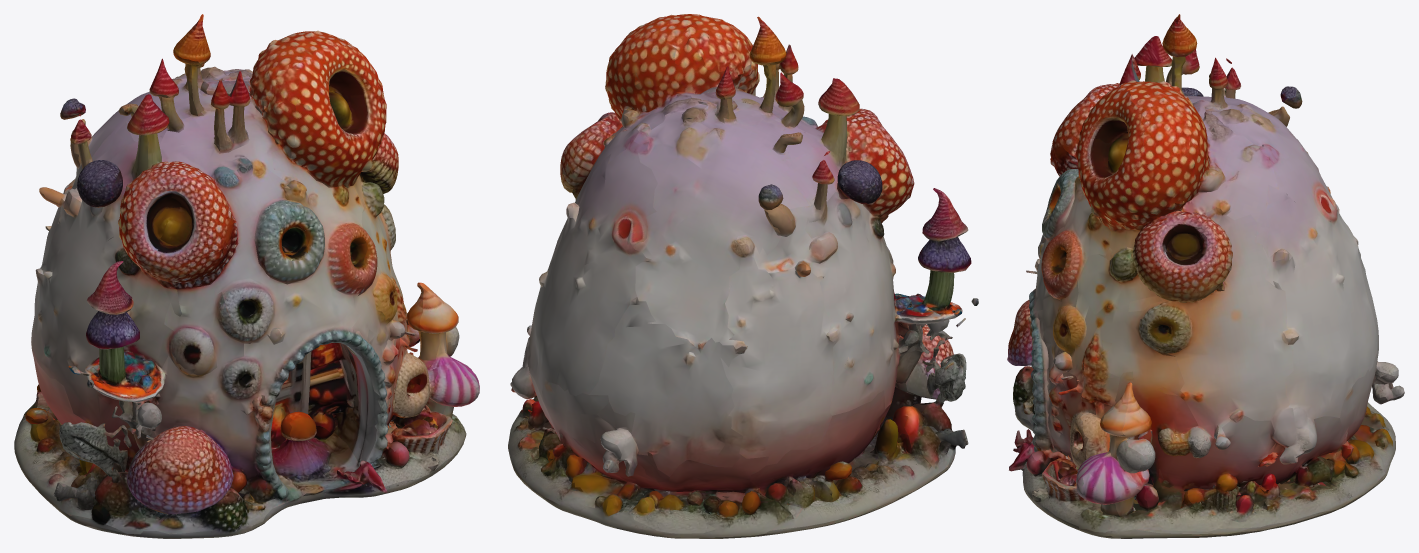
Rendered from statue_shell_optimized.glb.
3 renders of one model, left to right at view 1: azimuth 30°, elevation 25°; view 2: azimuth 150°, elevation 25°; view 3: azimuth 270°, elevation 25°, orthographic. The views are drawn at different scales.
Visible parts, largest first — view 1: Statue_Shell_Max_Optimized; view 2: Statue_Shell_Max_Optimized; view 3: Statue_Shell_Max_Optimized.
Part boxes in pixels (<box>): Statue_Shell_Max_Optimized: <box>14,14,479,538</box>; Statue_Shell_Max_Optimized: <box>508,14,978,538</box>; Statue_Shell_Max_Optimized: <box>1007,14,1404,538</box>.
Bounding box in the file's own units: 1.93 × 1.98 × 1.69.
Materials: 1 (1 with a texture image).
